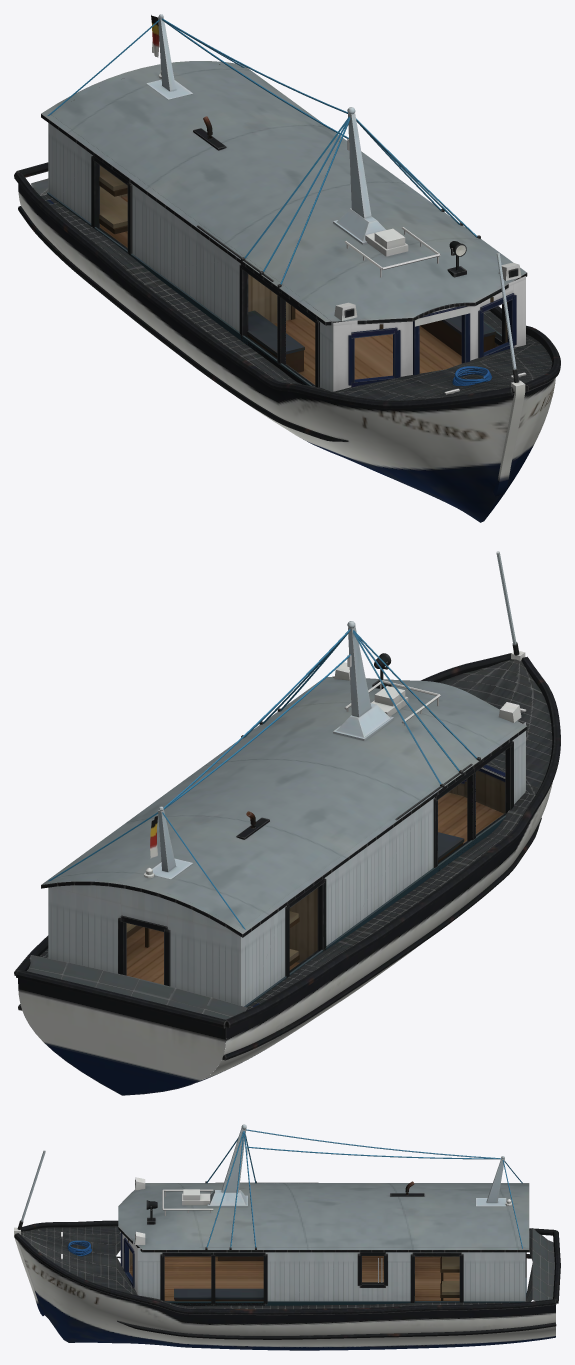
File: luzeiro_novo_b.glb
3 renders of one model, top to bottom at view 1: azimuth 30°, elevation 25°; view 2: azimuth 150°, elevation 25°; view 3: azimuth 270°, elevation 25°, orthographic. The views are drawn at different scales.
Parts seen in each view (by area): view 1: Luzeiro; view 2: Luzeiro; view 3: Luzeiro.
Boxes of the visible parts, bbox=[...] form: Luzeiro: bbox=[14, 14, 560, 522]; Luzeiro: bbox=[14, 551, 560, 1095]; Luzeiro: bbox=[14, 1124, 560, 1350].
Size of the model in its own units: 5.55 by 6.77 by 15.12.
Materials: 3 (3 with a texture image).
